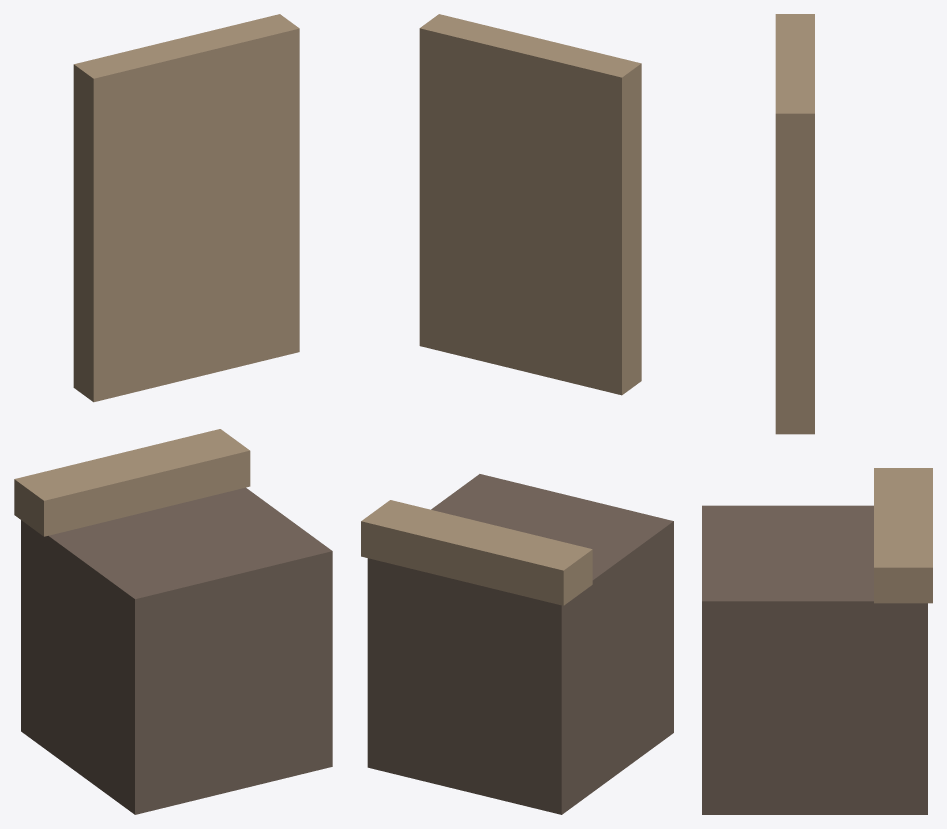
Rendered from chair_wood.glb.
The picture shows the model from 3 angles, left to right: view 1: azimuth 30°, elevation 25°; view 2: azimuth 150°, elevation 25°; view 3: azimuth 270°, elevation 25°; orthographic projection.
Parts seen in each view (by area): view 1: chair_wood; view 2: chair_wood; view 3: chair_wood.
Part boxes in pixels (box(x1,y1,x2,y2)): chair_wood: box(14, 14, 332, 814); chair_wood: box(361, 14, 673, 814); chair_wood: box(702, 14, 932, 814).
Bounding box in the file's own units: 0.48 × 1.58 × 0.47.
